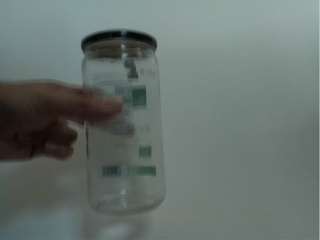pote cristal: (78, 28, 172, 219)
